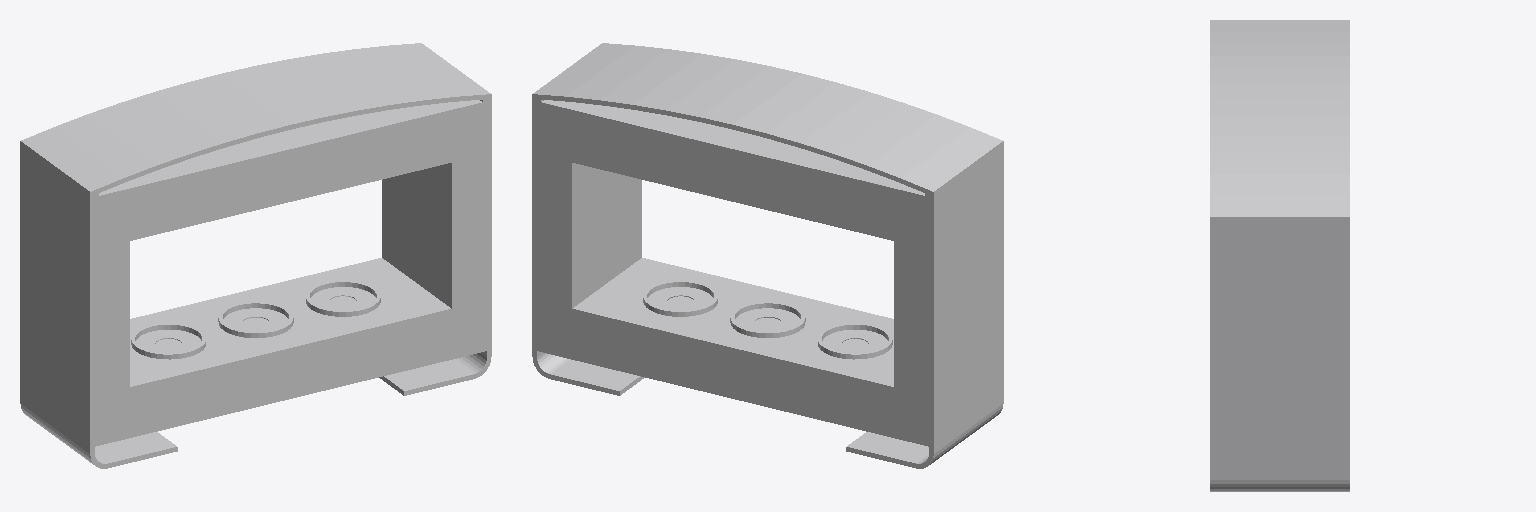
The robot description file, URDF, robot "mooi_mo3_brewing":
<?xml version="1.0"?>
<!--
  mooi_mo3_brewing.urdf
  홈 Mooi_MO3_Brewing.step → 변환. 단일 바디(링크 1개, 원본 7개 솔리드를 컴파운드로 병합).
  - 원본 STEP 단위 mm → 메쉬 좌표 자체를 m로 스케일 (scale="1 1 1")
  - 원점: 바닥면 중심 (x:-0.345~0.345, y:-0.104~0.104, z:0~0.49141)
  - 치수 0.69 x 0.208 x 0.49141 m (삼각형 1,388면)
  - 시각(visual): 원본 메쉬. 충돌(collision): 박스로 단순화(치수=메쉬 바운딩박스)
  - mass=8.0kg은 실측이 아닌 동급 카운터탑 브루잉 머신 추정치 — 정확한 무게 필요 시 갱신할 것.
  - 정적 소품(카운터/작업대 위 거치)이므로 스폰 시 AssetOptions.fix_base_link=True 권장
-->
<robot name="mooi_mo3_brewing">

  <material name="mooi_mo3_brewing_body"> <color rgba="0.85 0.85 0.86 1.0"/> </material>

  <link name="base_link">
    <inertial>
      <origin xyz="0 0 0.2457"/>
      <mass value="8.0"/>
      <!-- 박스 관성 (m=8.0, 0.69x0.208x0.49141) -->
      <inertia ixx="0.189832" ixy="0" ixz="0" iyy="0.478389" iyz="0" izz="0.346243"/>
    </inertial>

    <visual>
      <origin xyz="0 0 0"/>
      <geometry><mesh filename="meshes/mooi_mo3_brewing.stl" scale="1 1 1"/></geometry>
      <material name="mooi_mo3_brewing_body"/>
    </visual>

    <collision>
      <origin xyz="0 0 0.2457"/>
      <geometry><box size="0.69 0.208 0.49141"/></geometry>
    </collision>
  </link>
</robot>

--- Facts derived from the render (not from the file) ---
3 views of the same robot in one strip: view 1: azimuth 30°, elevation 25°; view 2: azimuth 150°, elevation 25°; view 3: azimuth 270°, elevation 25° (orthographic).
Robot: mooi_mo3_brewing — 1 links, 0 joints (none); root link base_link; default pose: all joints at 0.
Links seen in each view (by area): view 1: base_link; view 2: base_link; view 3: base_link.
Link boxes in pixels (bbox=[...]): base_link: bbox=[20, 43, 491, 468]; base_link: bbox=[532, 43, 1003, 468]; base_link: bbox=[1210, 20, 1349, 491].
Bounding box of the posed robot: 0.69 × 0.208 × 0.4914 m (x, y, z).
1 mesh visuals loaded from 1 distinct referenced files (1 binary STL).
